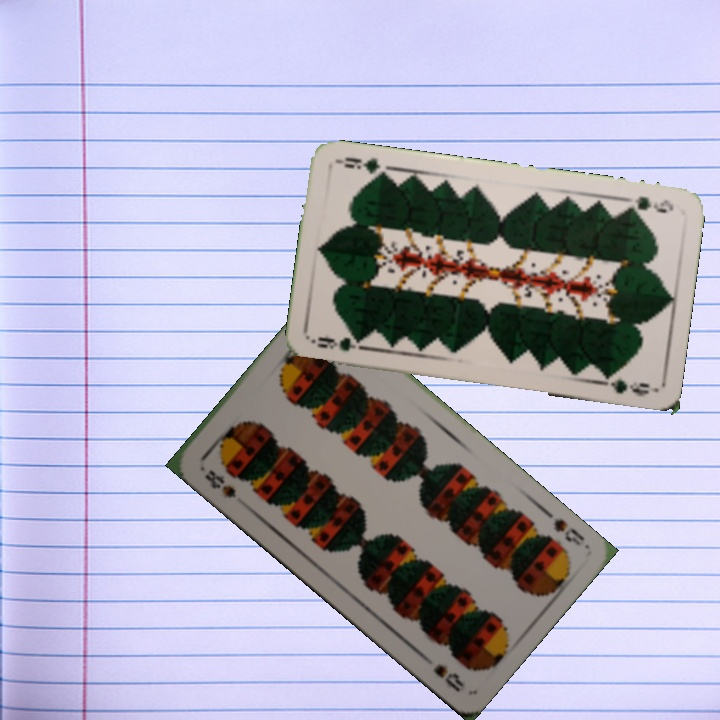G9: (619, 192, 676, 216), (309, 333, 368, 354)
S8: (200, 465, 239, 501), (549, 514, 587, 549)
